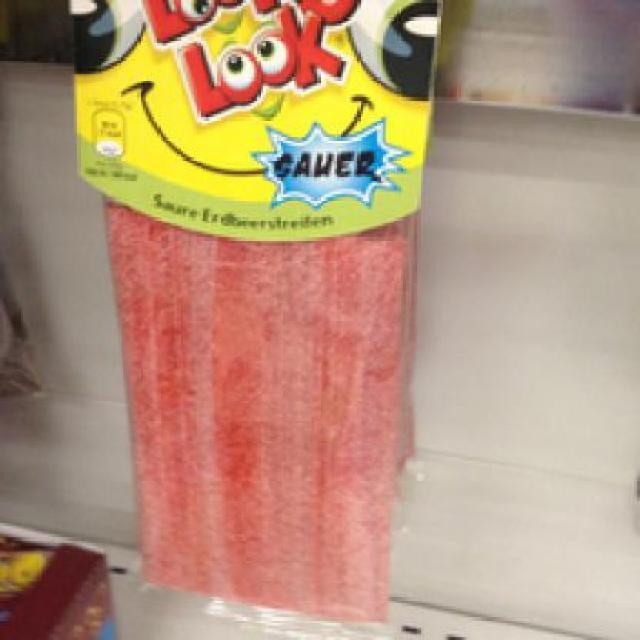Candy: (83, 5, 426, 618)
